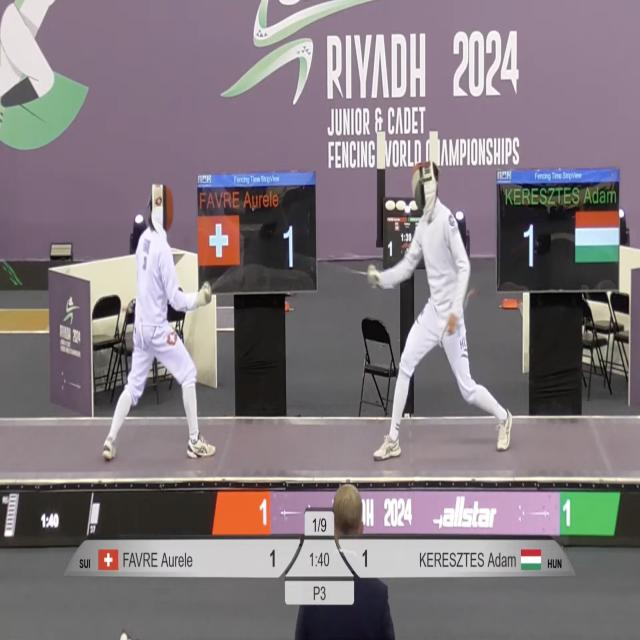fencer: (366, 150, 516, 464), (98, 176, 221, 465)
overlayLeft: (63, 533, 261, 580)
overlayRight: (383, 537, 578, 574)
scoreLeft: (262, 534, 303, 576)
scoreRight: (336, 538, 380, 577)
